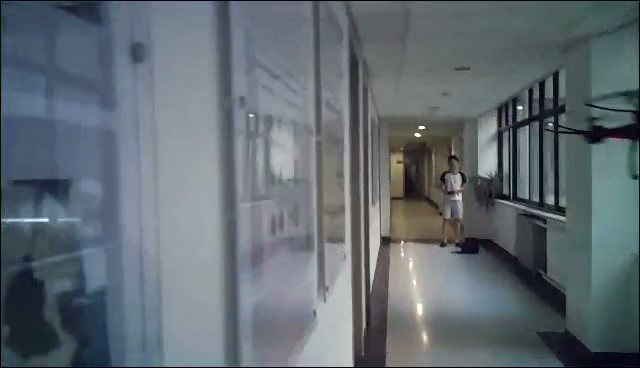drone: (539, 88, 640, 182)
person: (436, 155, 469, 248)
